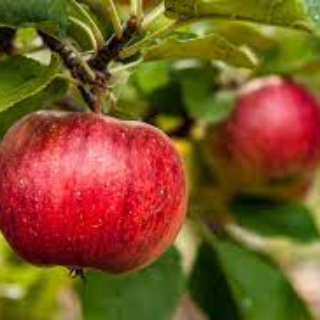tao: (1, 106, 191, 276)
